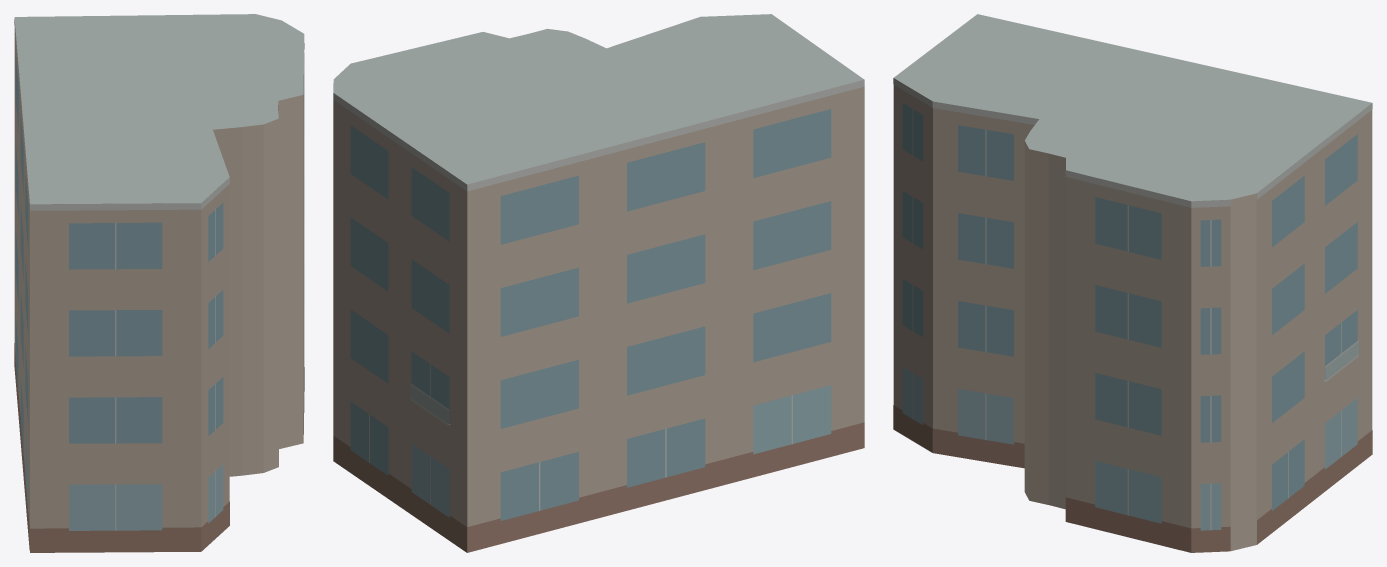
File: survey-upis-32999637.glb
3 views of the same model, side by side, from view 1: azimuth 30°, elevation 25°; view 2: azimuth 150°, elevation 25°; view 3: azimuth 270°, elevation 25° (orthographic). The views are drawn at different scales.
Visible parts, largest first — view 1: survey-upis-32999637.tmp; view 2: survey-upis-32999637.tmp; view 3: survey-upis-32999637.tmp.
Part boxes in pixels (bbox=[...]): survey-upis-32999637.tmp: bbox=[14, 14, 304, 552]; survey-upis-32999637.tmp: bbox=[333, 14, 864, 552]; survey-upis-32999637.tmp: bbox=[893, 14, 1372, 552].
Bounding box in the file's own units: 14.86 × 13 × 16.06.
